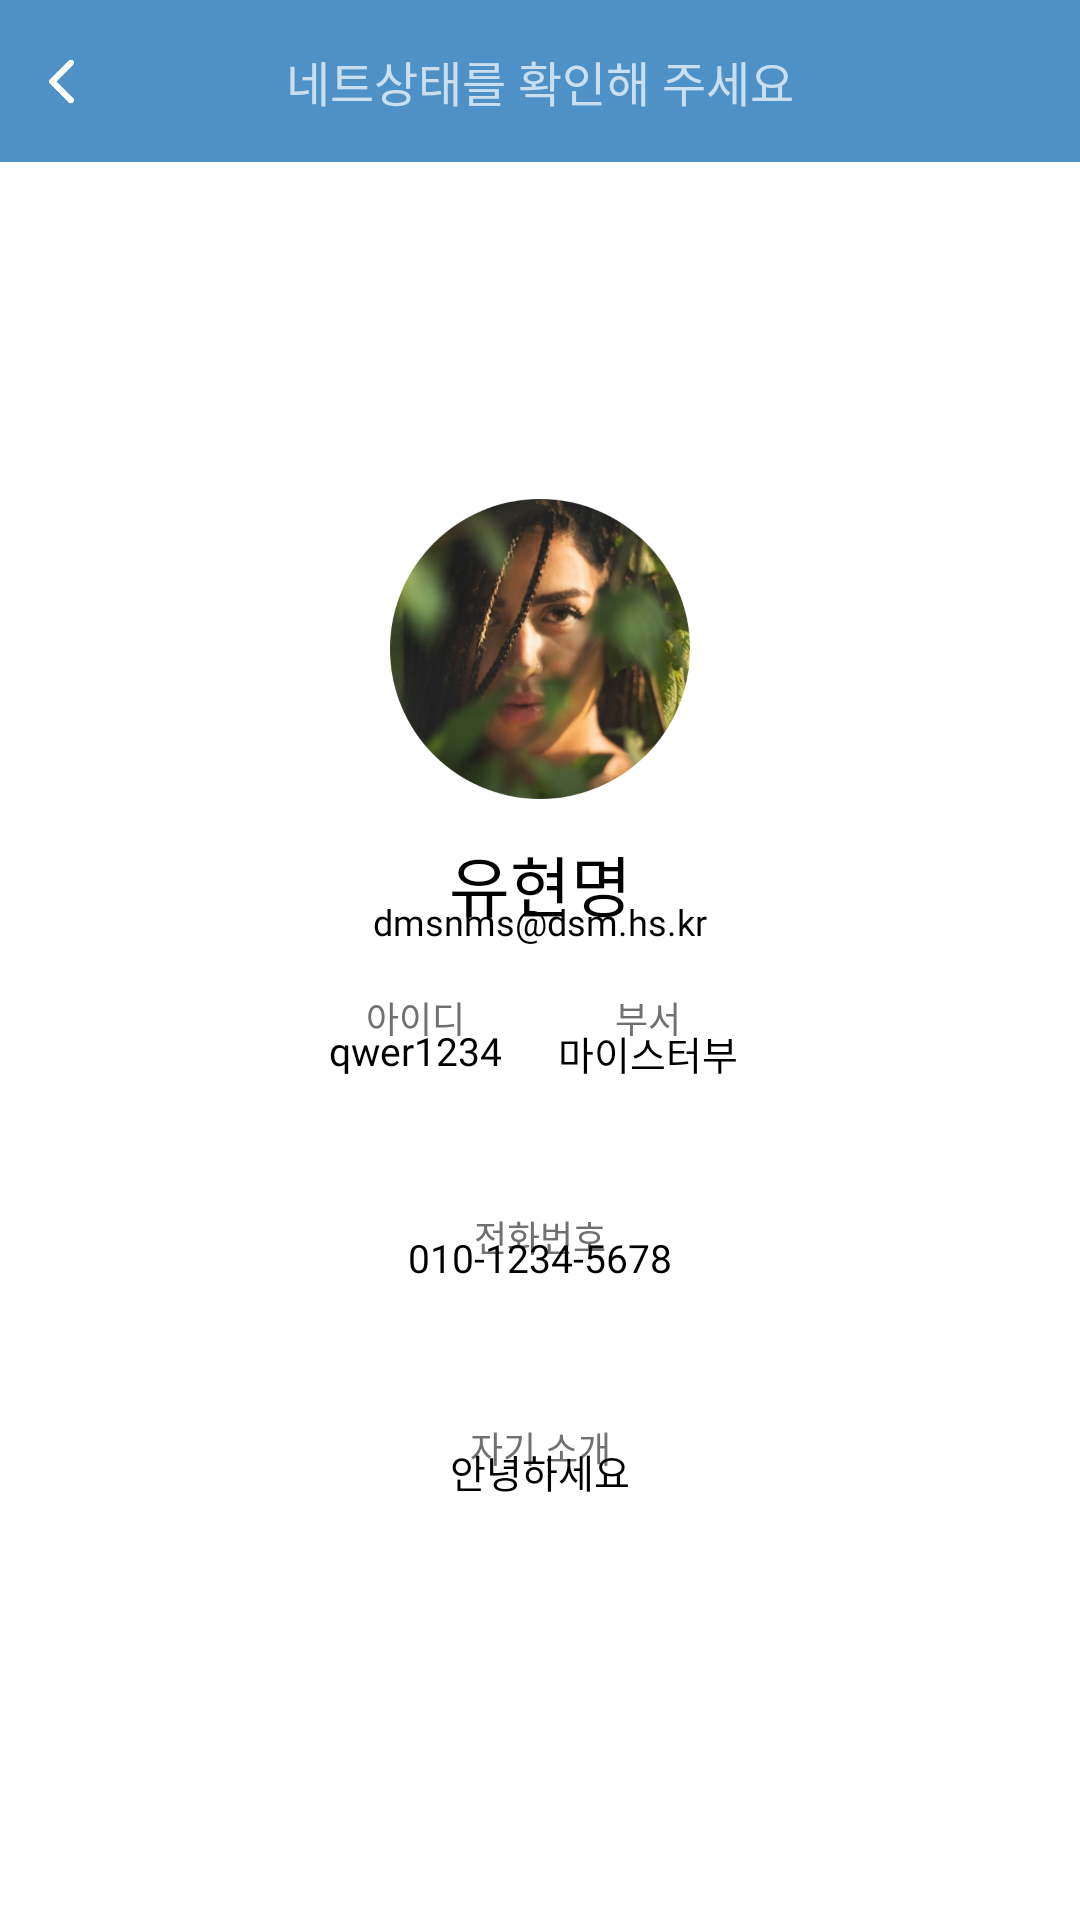

Screen size 1080 x 1920. Icon name, then its center in pixels as (x,y):
backbutton: (61,81)
profile: (540,649)
